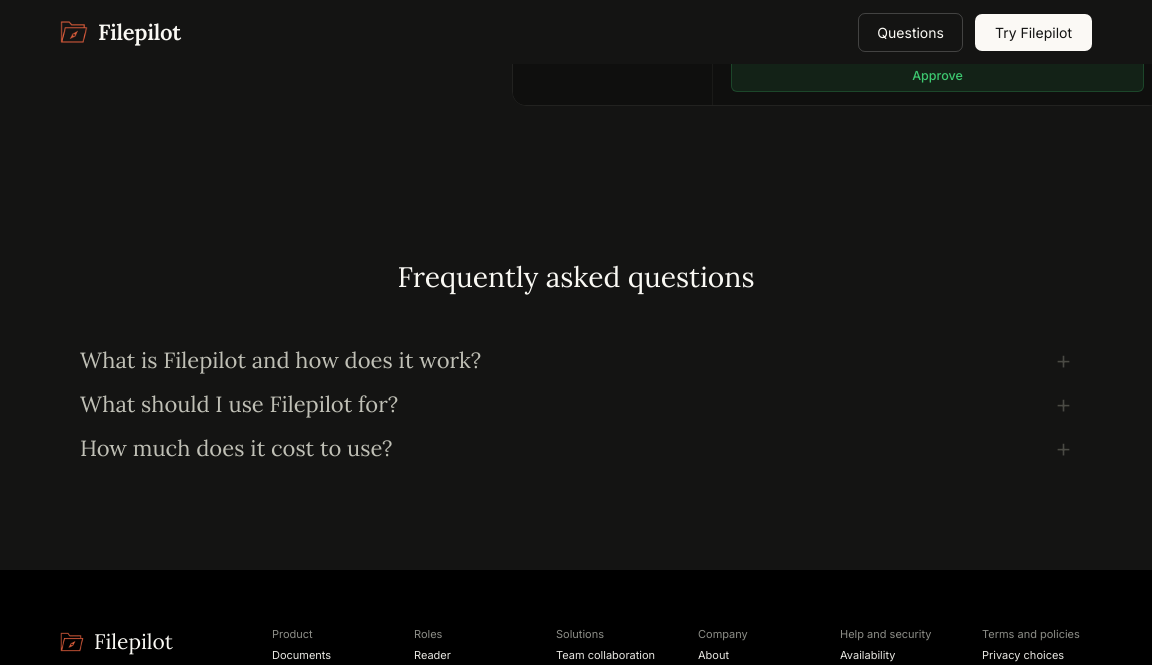
Test case: LandingPage – FAQ accordion › clicking an open FAQ question collapses it again
(page scrolled)
Step 1. Click the button "What is Filepilot and how does it work? +" → (281, 360), box [80,338,1072,382]
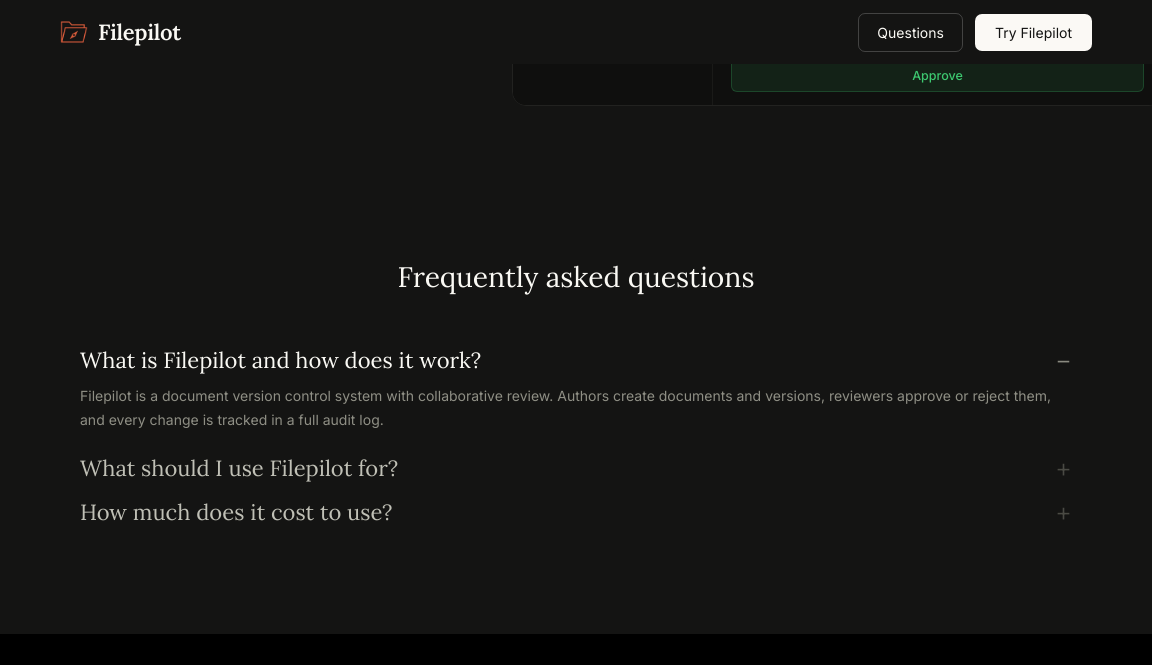
Step 2. Click the button "What is Filepilot and how does it work? −" → (281, 360), box [80,338,1072,382]
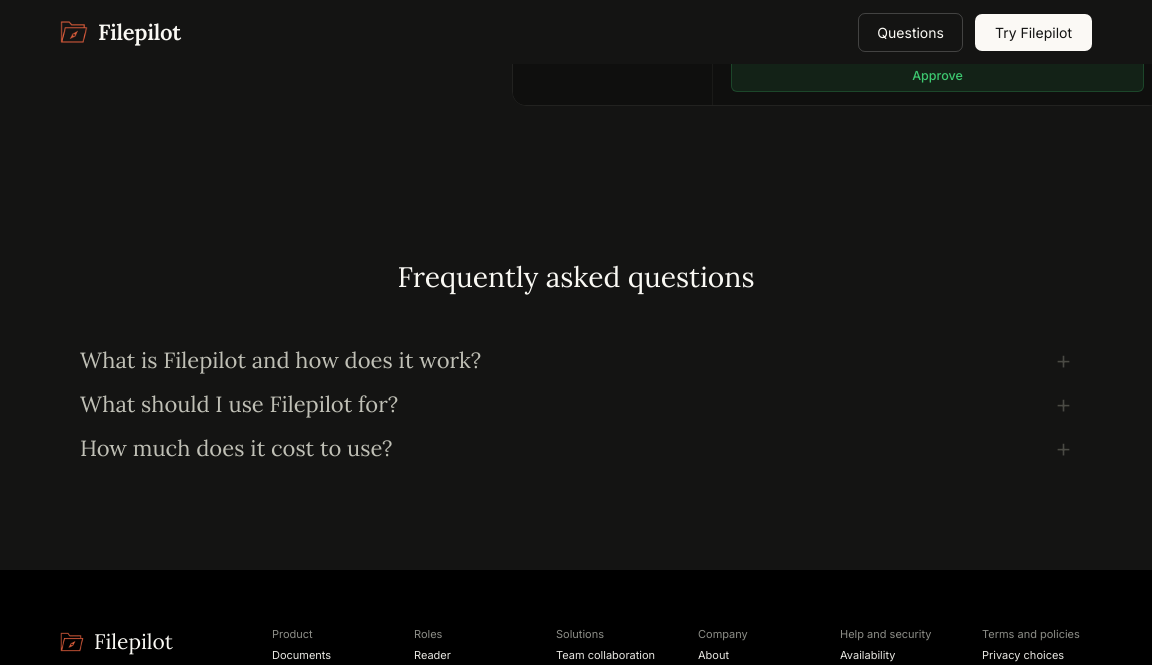
Now the text "document version control system" is gone
